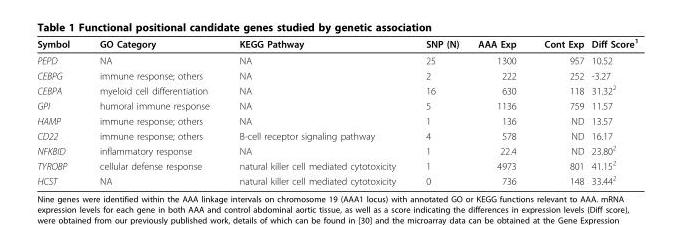table: (36, 36, 637, 186)
table column: (223, 36, 410, 186), (84, 36, 223, 186), (467, 36, 529, 186), (529, 36, 587, 186), (410, 36, 467, 186), (587, 36, 637, 186), (36, 36, 84, 186)
table column header: (36, 36, 637, 51)
table row: (36, 51, 637, 67), (36, 97, 637, 113), (36, 36, 637, 51), (36, 67, 637, 82), (36, 82, 637, 97), (36, 113, 637, 128), (36, 142, 637, 157), (36, 157, 637, 172), (36, 128, 637, 142), (36, 172, 637, 186)
